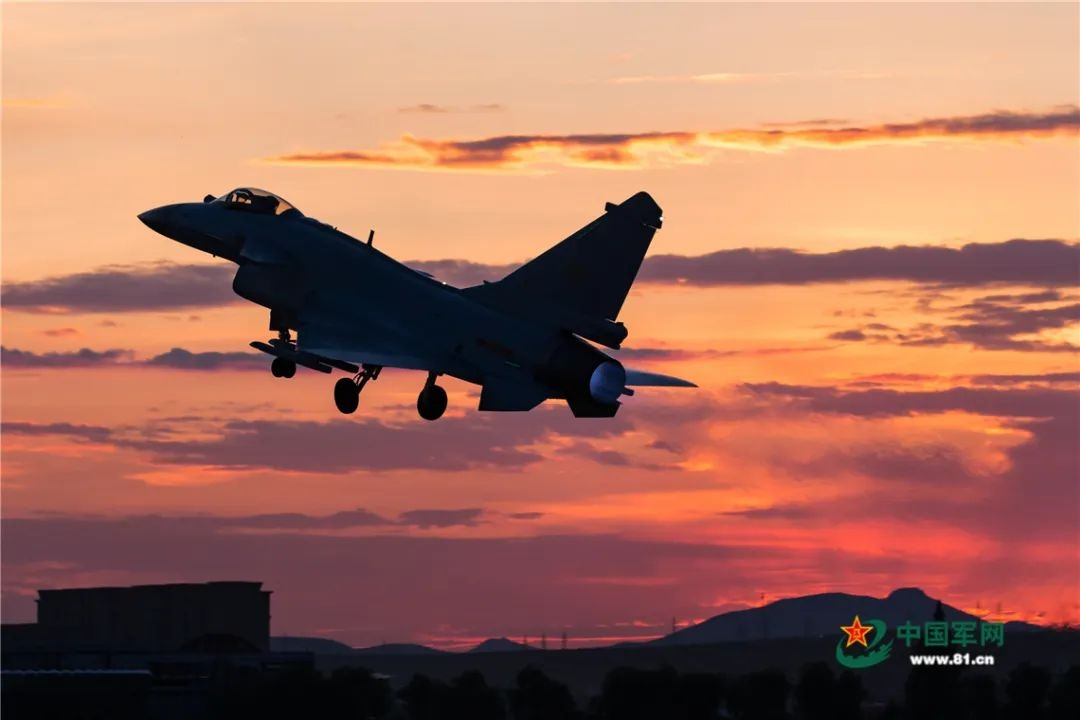airplane: (133, 180, 703, 429)
